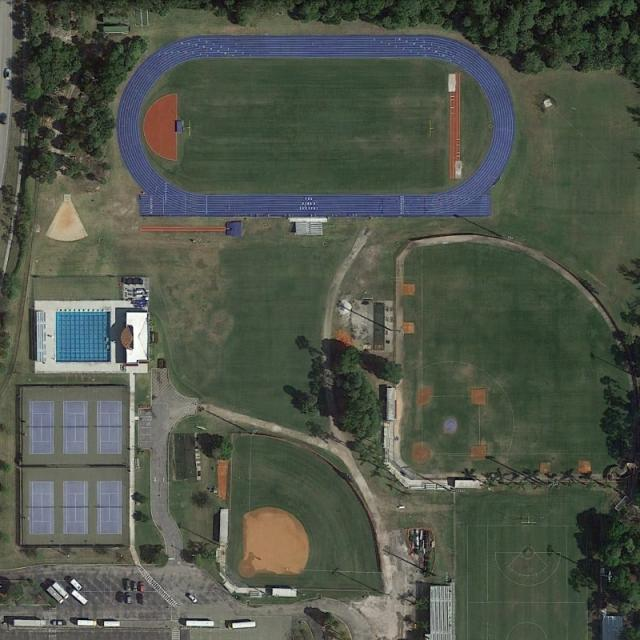vehicle: (50, 581, 70, 599), (71, 589, 88, 606), (47, 586, 63, 603), (14, 619, 46, 627), (185, 620, 214, 627), (68, 578, 82, 591), (230, 622, 256, 628), (77, 619, 96, 626), (103, 620, 120, 627), (187, 593, 198, 603), (4, 67, 10, 79), (139, 582, 144, 594), (50, 621, 64, 625), (125, 579, 130, 590), (2, 112, 6, 125), (126, 594, 131, 604), (133, 582, 138, 590), (140, 595, 144, 605), (119, 592, 123, 602)
